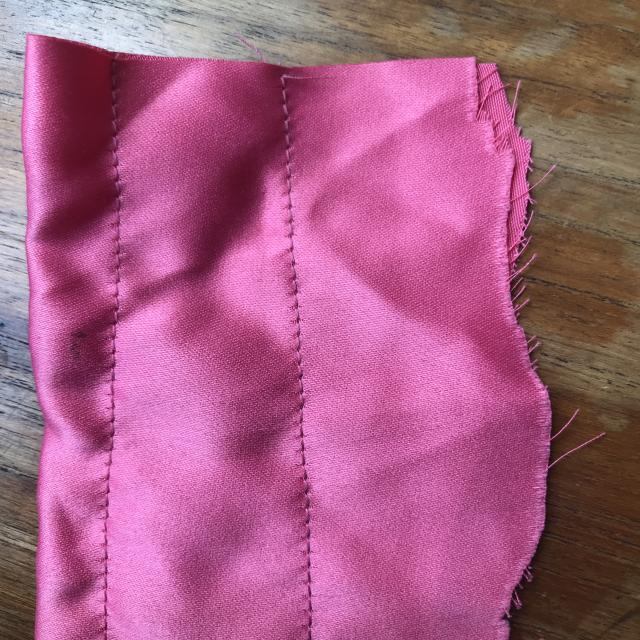good: (276, 281, 322, 417)
